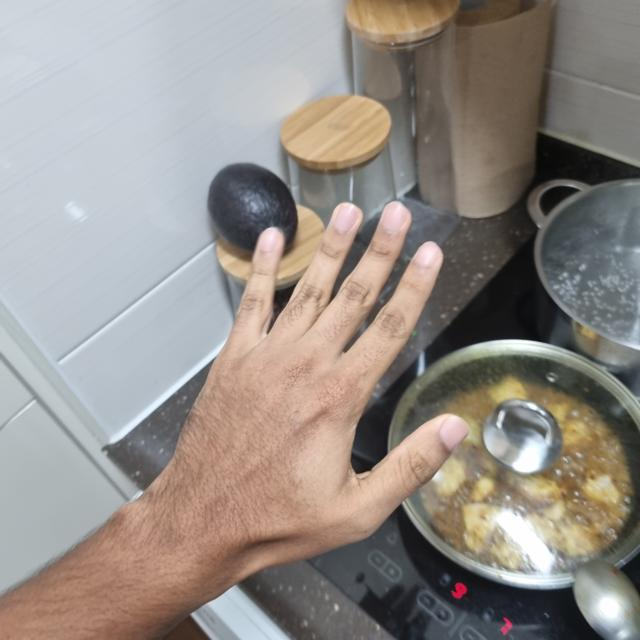Paper: (162, 203, 460, 568)
